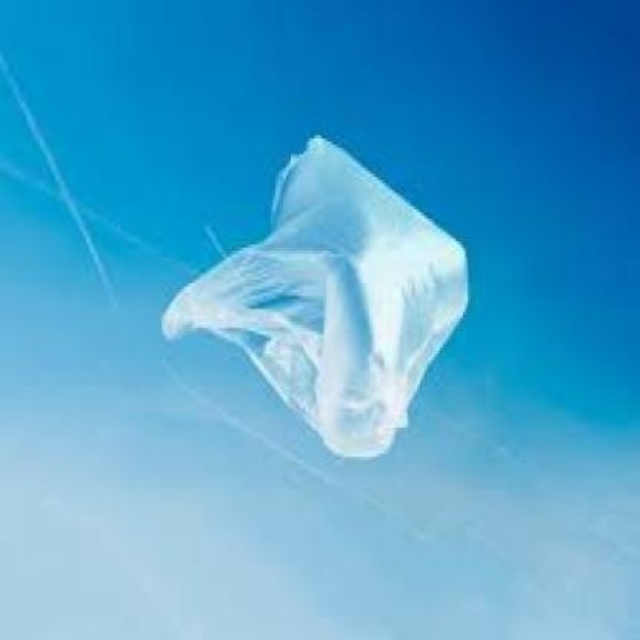trash: (162, 135, 466, 457)
